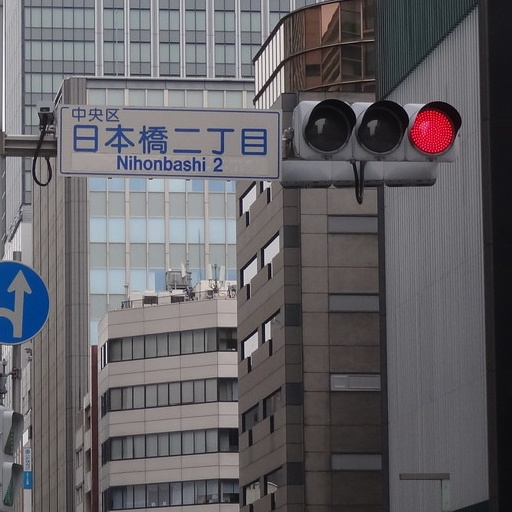Traffic_Signal_Red: (293, 97, 469, 163)
